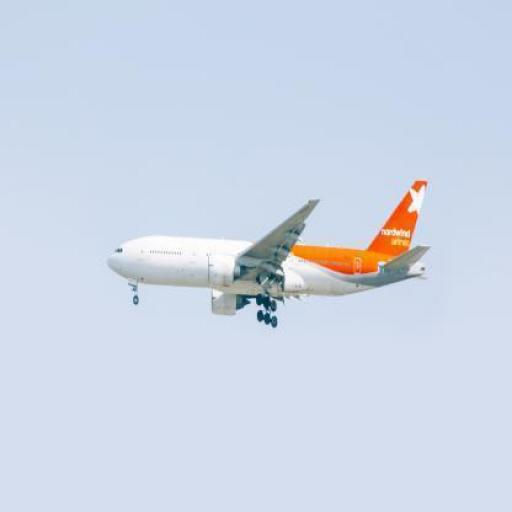aircraft: (104, 176, 430, 327)
